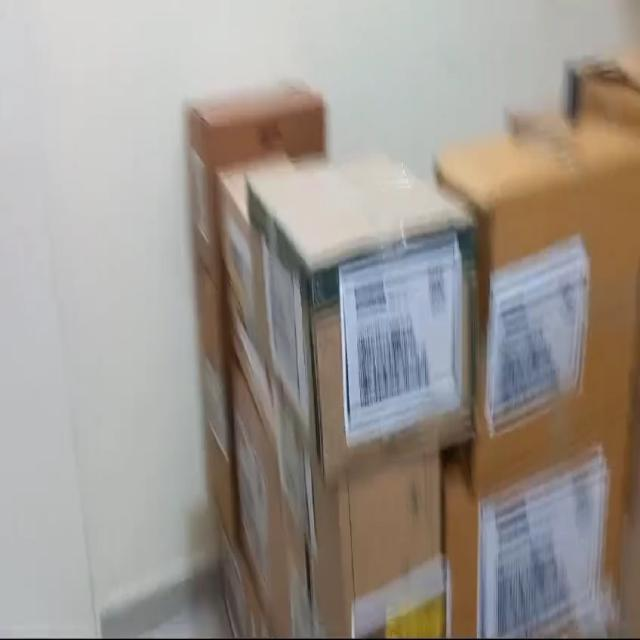BoxFace: (475, 183, 640, 463), (309, 214, 480, 476), (449, 454, 637, 640), (338, 468, 446, 640)
